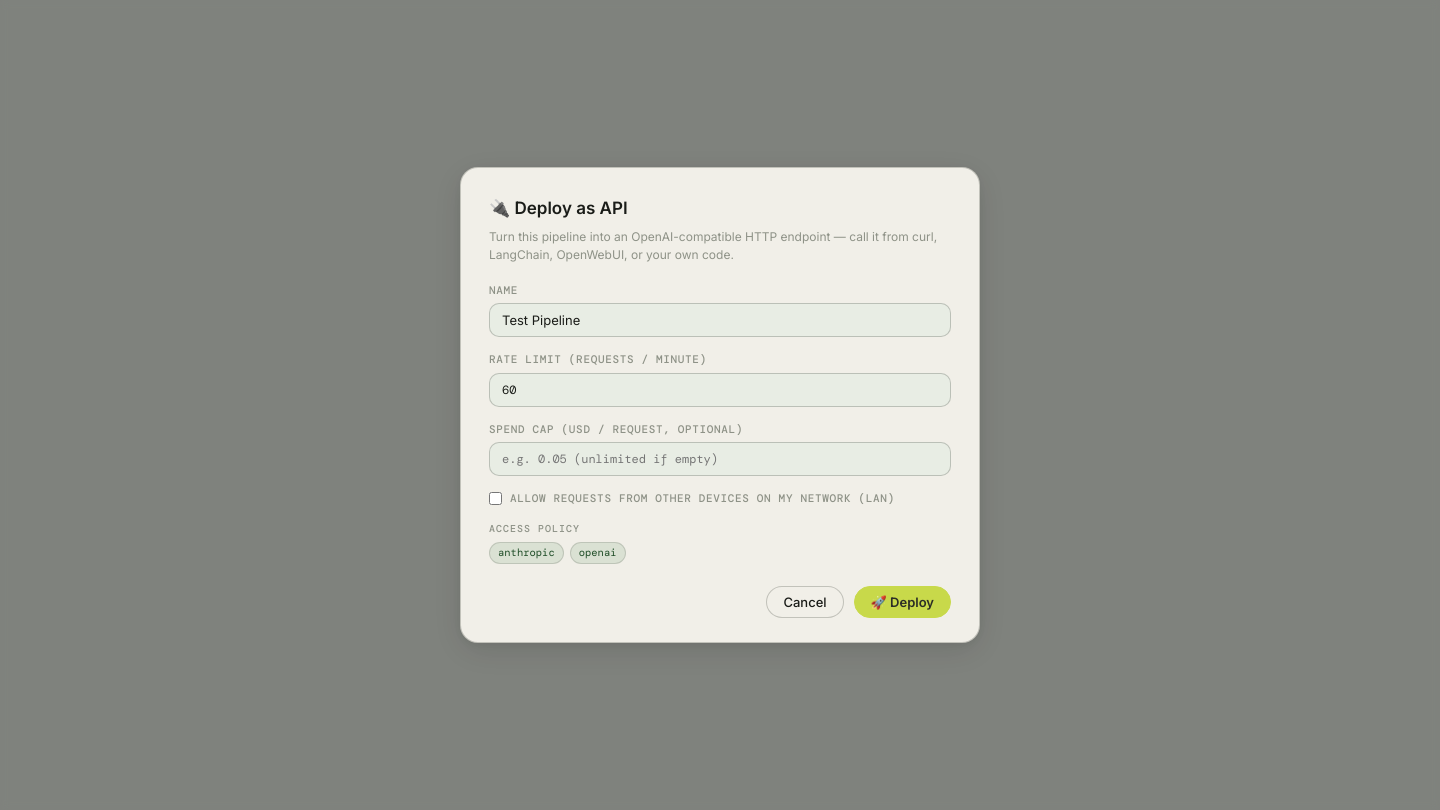
DeployModal — create mode › LAN toggle requires an explicit confirmation before it takes effect
This screenshot has width=1440, height=810.
What coordinates should you click on to do the following:
click the checkbox with test id "deploy-lan-toggle"
I would click on:
 (496, 499)
Its box is [489,492,502,505].
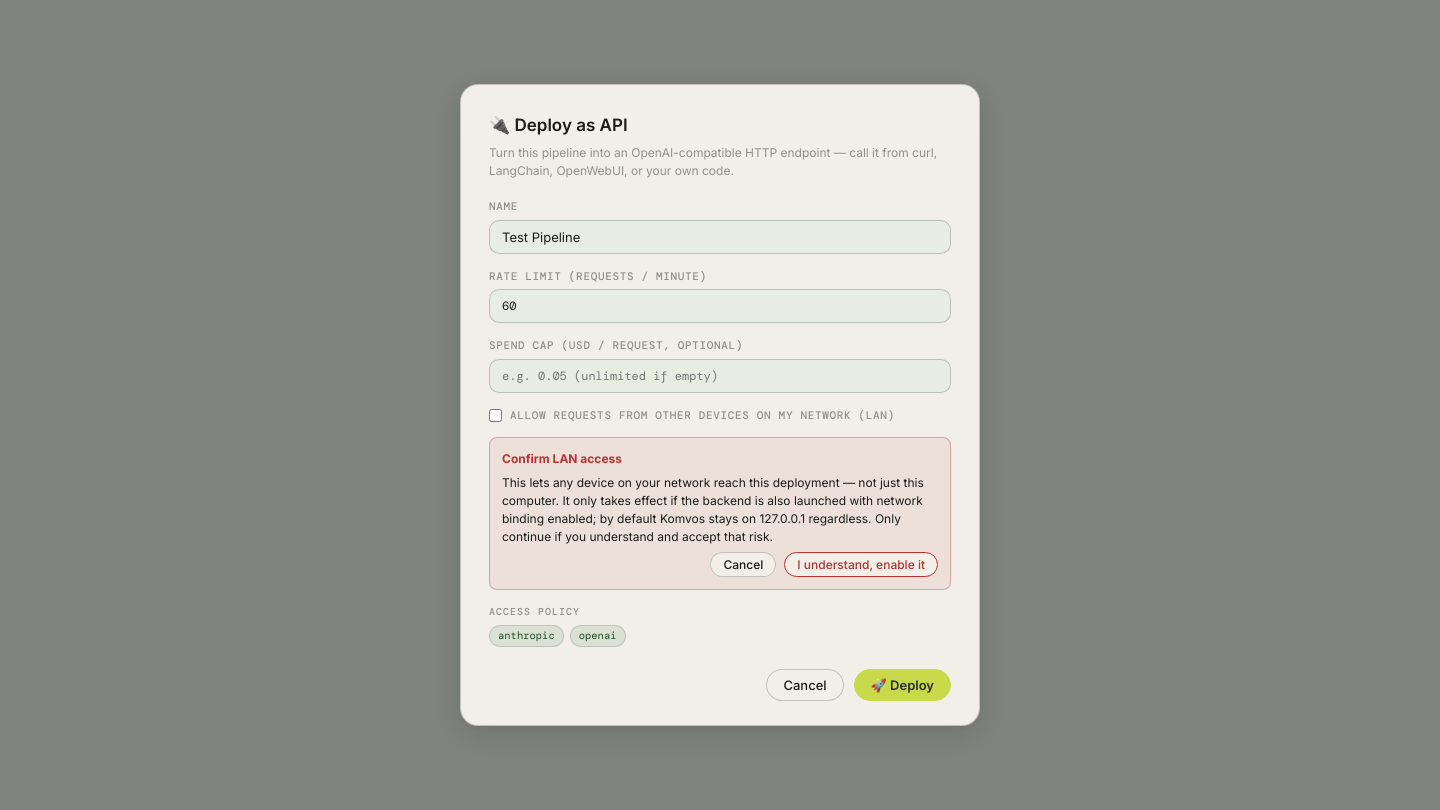
Expected: the checkbox with test id "deploy-lan-toggle" is not checked, [489,409,502,422]
Result: the element with test id "deploy-lan-confirm" is shown at [489,437,951,590]
